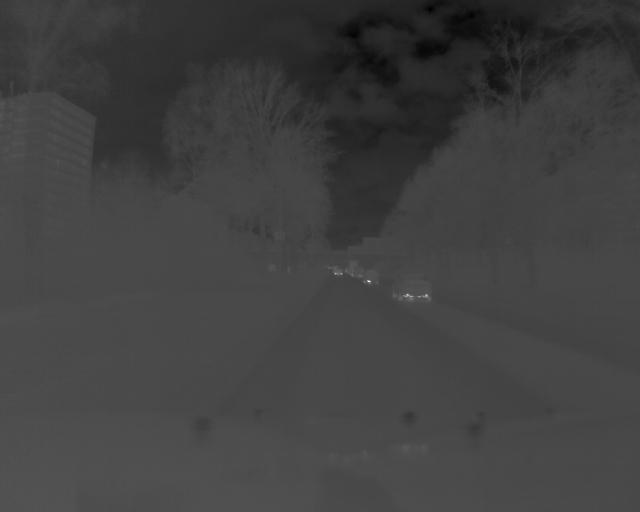car: (389, 269, 434, 305), (357, 266, 378, 288)
